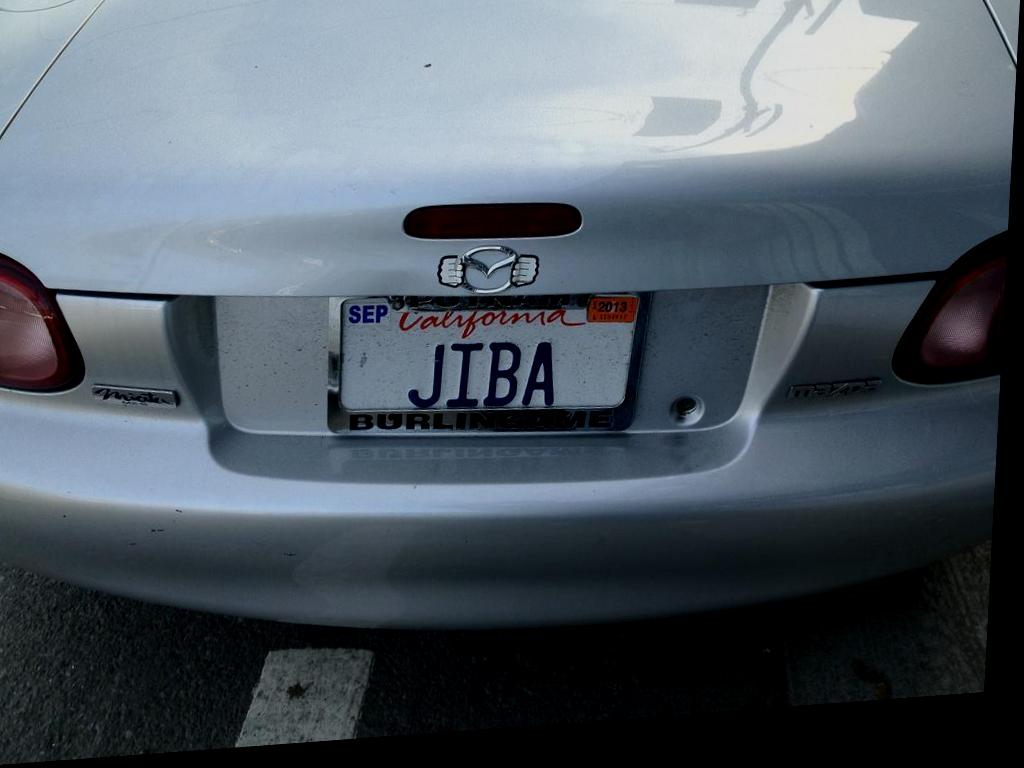License_Plate: (317, 271, 656, 452)
